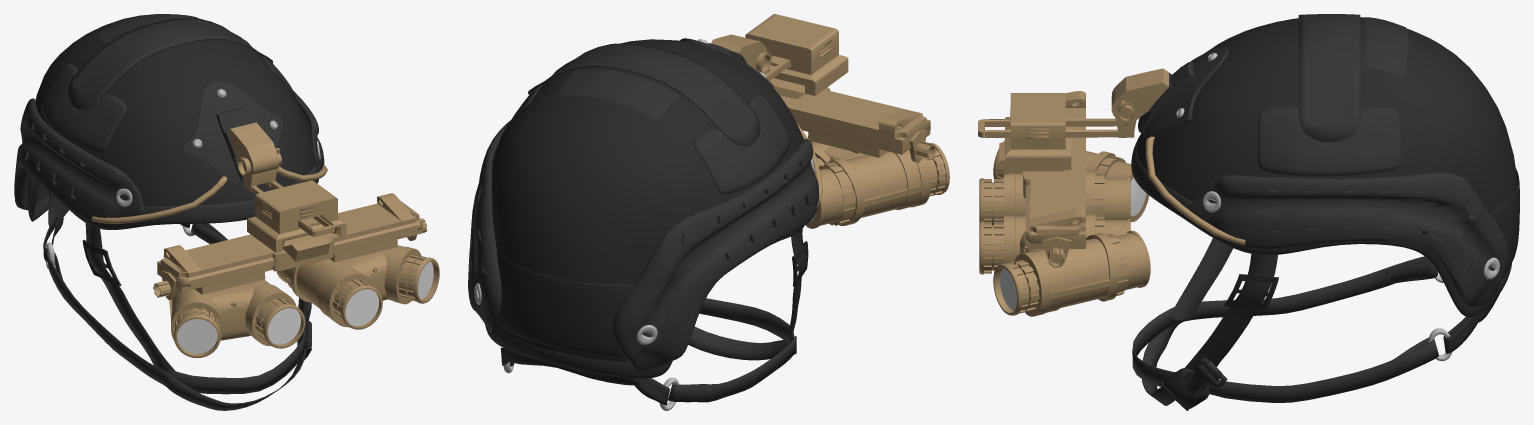
The model's file is NightVisionGogglesNavySeals.fbx.
3 views of the same model, side by side, from view 1: azimuth 30°, elevation 25°; view 2: azimuth 150°, elevation 25°; view 3: azimuth 270°, elevation 25° (orthographic). The views are drawn at different scales.
Parts seen in each view (by area): view 1: Helmet; view 2: Helmet; view 3: Helmet.
Boxes of the visible parts, x1,y1,x2,y2 form: Helmet: (14, 14, 439, 410); Helmet: (468, 14, 949, 410); Helmet: (978, 14, 1519, 410).
Bounding box in the file's own units: 221 × 255 × 342.
